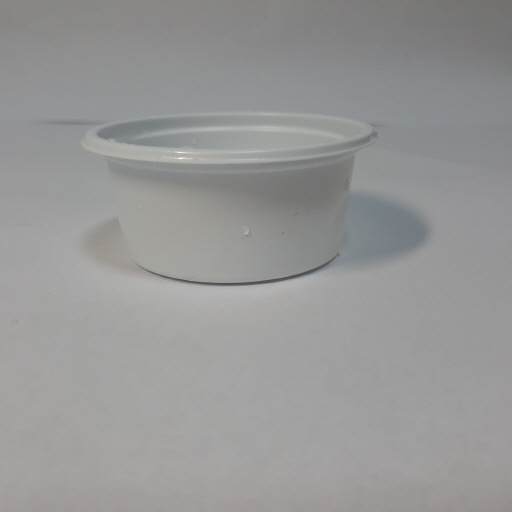Plastic_5: (82, 113, 379, 285)
